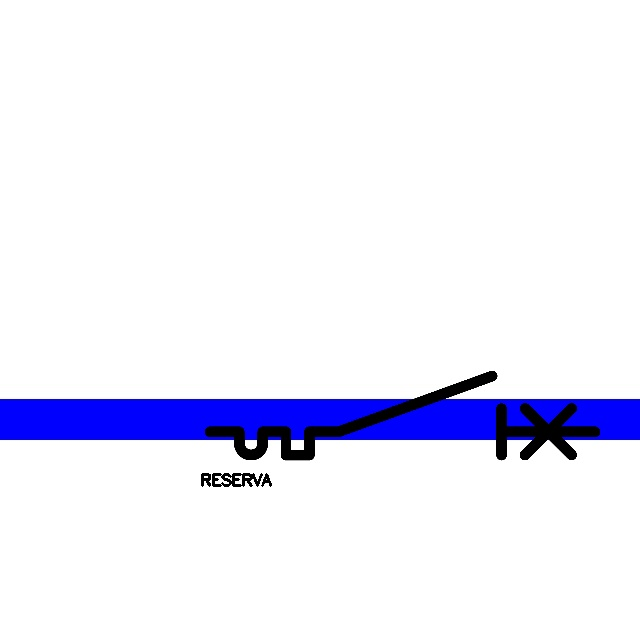interruptor_termomagnetico: (200, 366, 604, 465)
